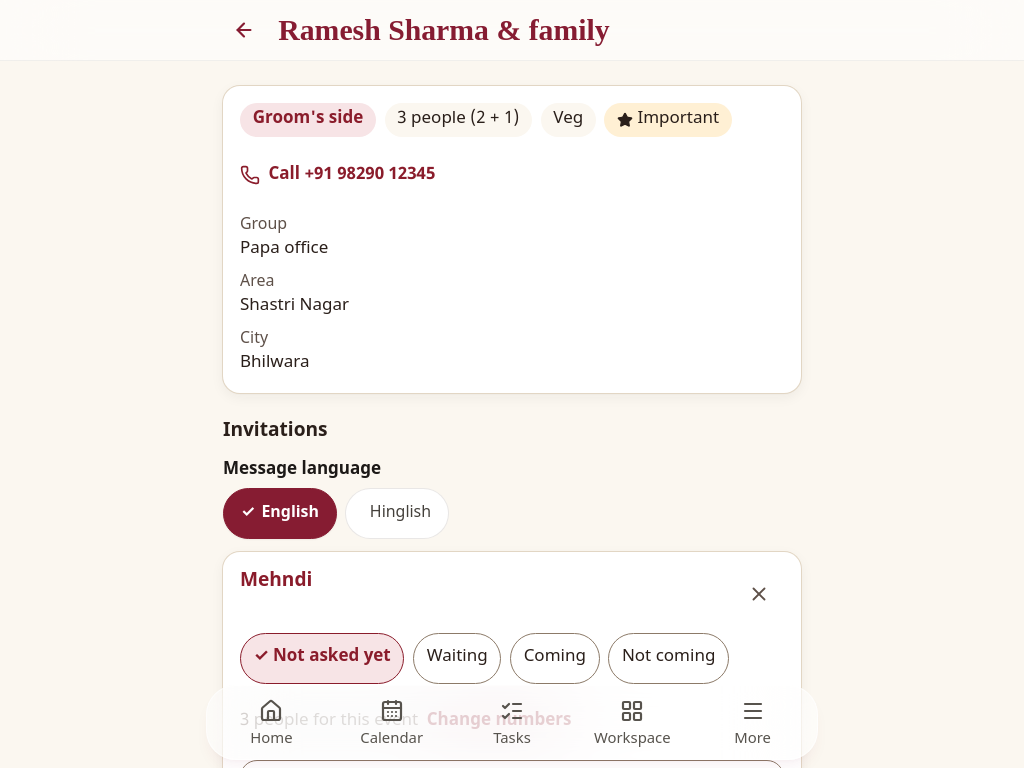
Family page › Remove from an event uses Undo, not a confirm
Click the button named "Remove from Mehndi". click: (758, 594)
box: [733,569,784,620]
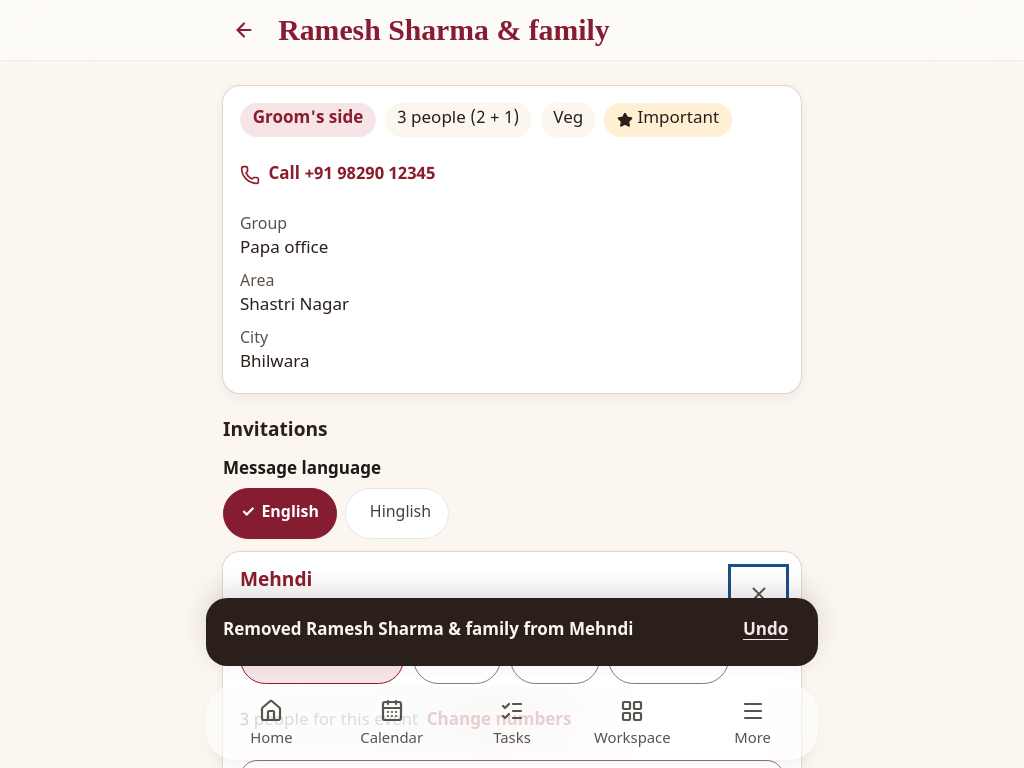
Now the text "Removed Ramesh Sharma & family from Mehndi" is shown, box [223,620,633,642]
Now the button "Undo" is shown, box [730,606,801,658]
